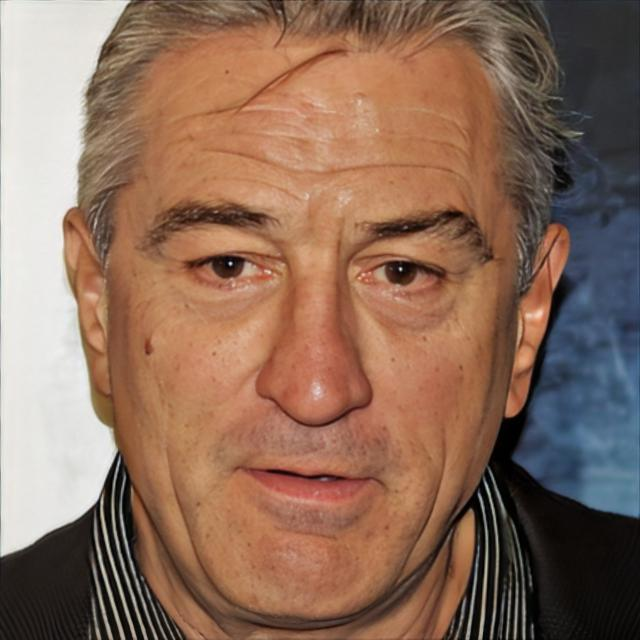anger: (105, 59, 518, 627)
